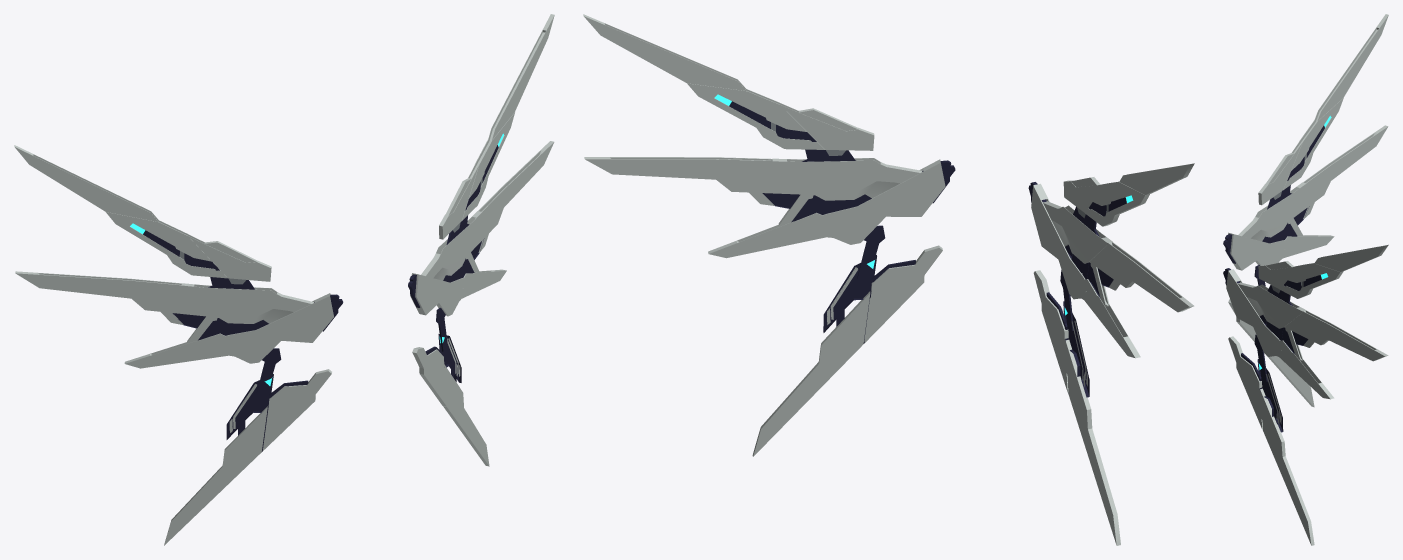
The model's file is MechanicalWings.fbx.
The picture shows the model from 3 angles, left to right: view 1: azimuth 30°, elevation 25°; view 2: azimuth 150°, elevation 25°; view 3: azimuth 270°, elevation 25°; orthographic projection. The views are drawn at different scales.
Parts seen in each view (by area): view 1: Plane.027; view 2: Plane.027; view 3: Plane.027.
Boxes of the visible parts, x1,y1,x2,y2 form: Plane.027: (14, 14, 554, 545); Plane.027: (583, 14, 1194, 545); Plane.027: (1223, 14, 1388, 545).
Bounding box in the file's own units: 3273 × 2282 × 990.
